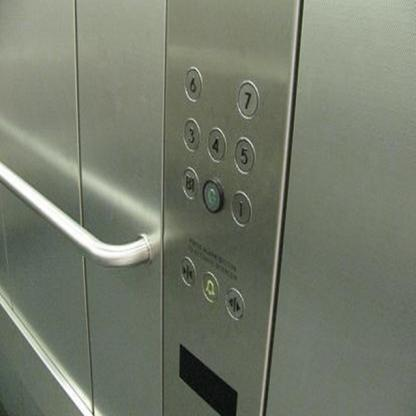1: (229, 188, 252, 228)
3: (181, 115, 201, 152)
4: (206, 125, 228, 162)
5: (231, 134, 256, 175)
6: (182, 64, 204, 102)
7: (235, 78, 259, 119)
B1: (180, 164, 199, 199)
G: (201, 175, 224, 214)
alarm: (199, 270, 220, 304)
close: (179, 254, 196, 287)
led: (178, 342, 237, 415)
open: (224, 286, 245, 321)
